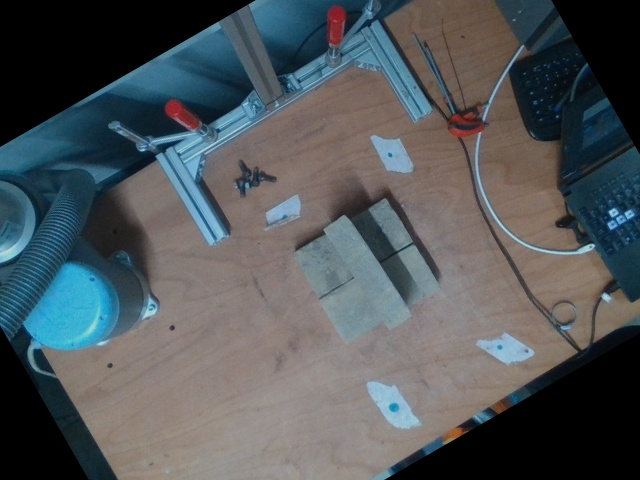brick-side: (326, 216, 411, 326)
